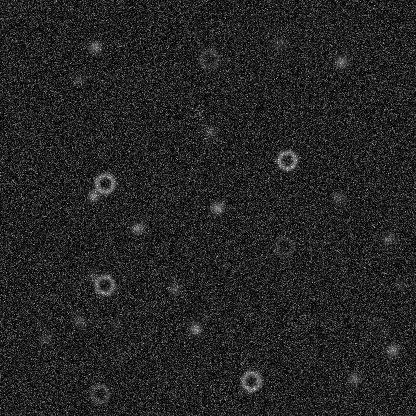Ring: (238, 368, 262, 392), (87, 381, 111, 405), (92, 272, 116, 296), (274, 148, 298, 172), (272, 234, 296, 258), (366, 315, 390, 339), (92, 171, 116, 195), (196, 46, 220, 70)
Spot: (70, 71, 86, 87), (166, 280, 182, 296), (346, 370, 362, 386), (329, 190, 345, 206), (201, 123, 217, 139), (333, 53, 349, 69), (87, 38, 103, 54), (129, 219, 145, 235), (271, 35, 287, 51), (209, 200, 225, 216), (107, 318, 123, 334), (392, 275, 408, 291), (187, 320, 203, 336), (37, 331, 53, 347), (380, 230, 396, 246), (85, 188, 101, 204), (72, 313, 88, 329), (384, 341, 400, 357), (83, 267, 99, 283)
